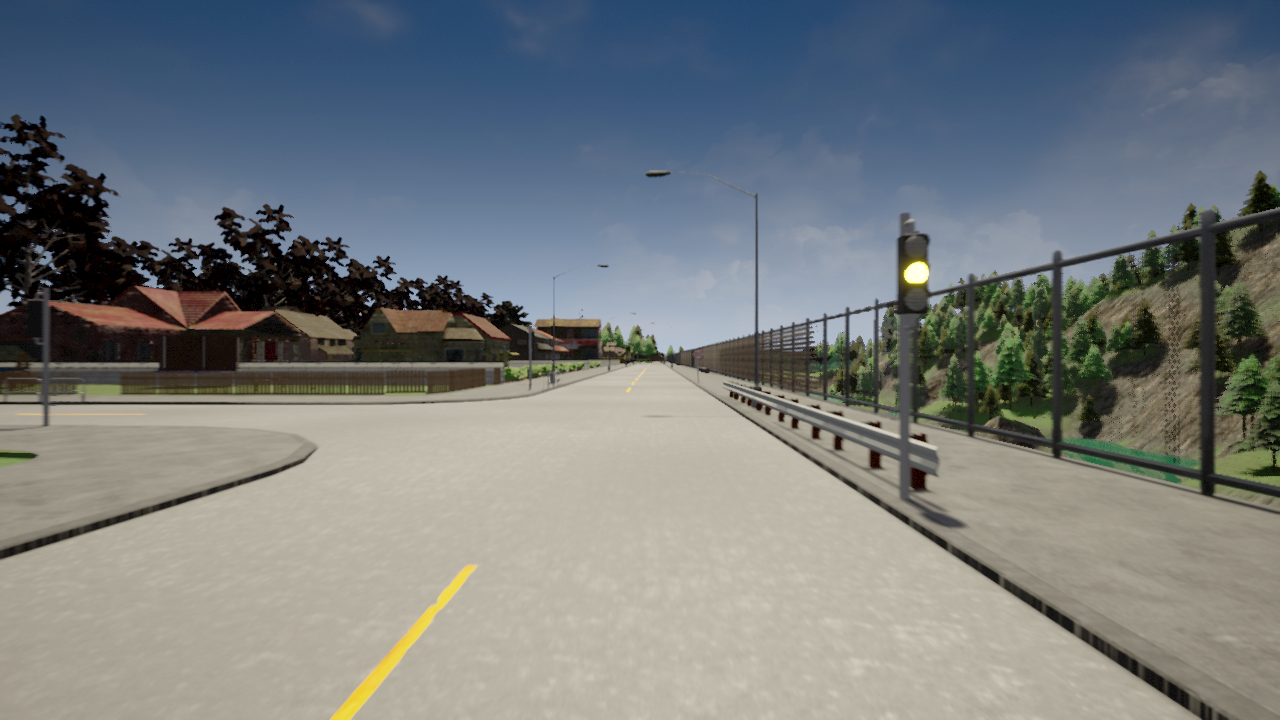yellow: (891, 232, 933, 315)
